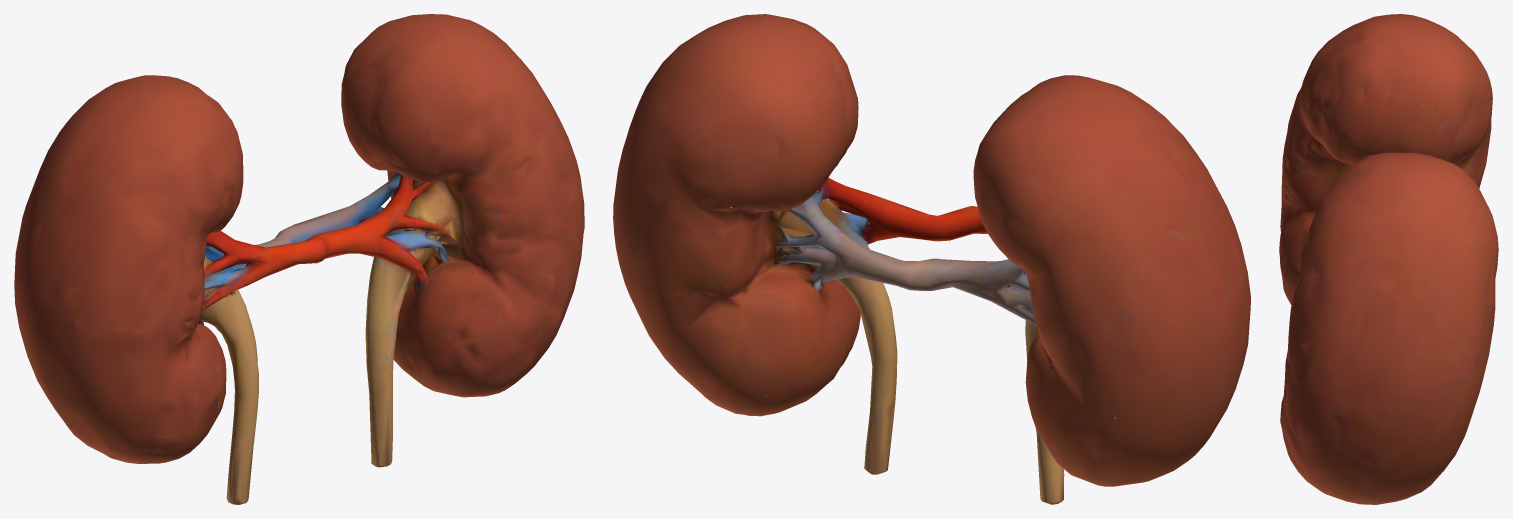
The model's file is kidneys-lod2.glb.
3 views of the same model, side by side, from view 1: azimuth 30°, elevation 25°; view 2: azimuth 150°, elevation 25°; view 3: azimuth 270°, elevation 25° (orthographic). The views are drawn at different scales.
Visible parts, largest first — view 1: tripo_node_e5de9656-5b36-4996-8f10-3690a202b494; view 2: tripo_node_e5de9656-5b36-4996-8f10-3690a202b494; view 3: tripo_node_e5de9656-5b36-4996-8f10-3690a202b494.
Boxes of the visible parts, bbox=[...] form: tripo_node_e5de9656-5b36-4996-8f10-3690a202b494: bbox=[14, 14, 584, 504]; tripo_node_e5de9656-5b36-4996-8f10-3690a202b494: bbox=[613, 14, 1250, 504]; tripo_node_e5de9656-5b36-4996-8f10-3690a202b494: bbox=[1279, 14, 1498, 504].
Bounding box in the file's own units: 0.9788 × 0.7188 × 0.3716.
Materials: 1 (1 with a texture image).
